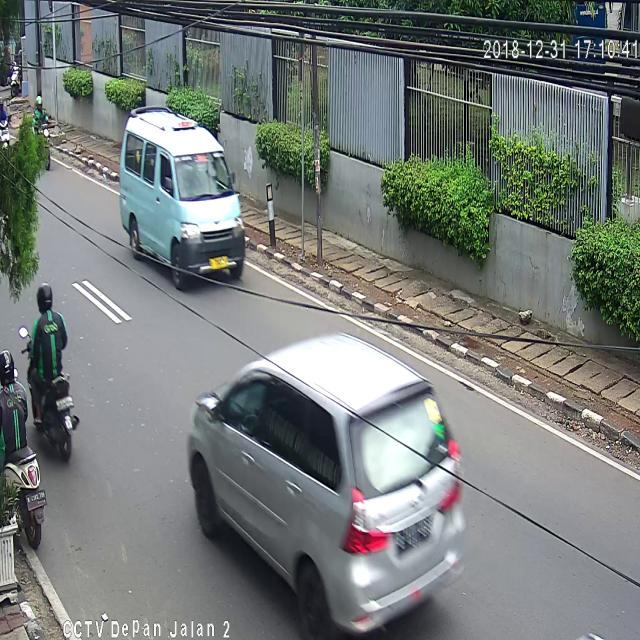bus: (20, 282, 82, 471), (0, 350, 48, 548), (29, 92, 52, 172)
motorcycle: (187, 329, 466, 636), (118, 101, 245, 290)
